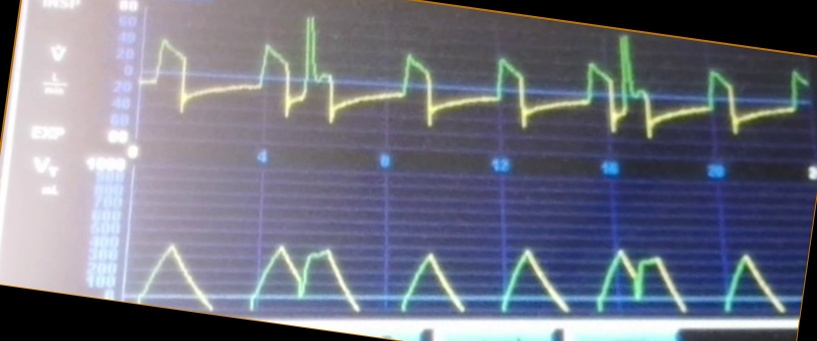Double_Triggering Flow: (148, 12, 811, 142)
Double_Triggering Volume: (136, 233, 789, 314)
